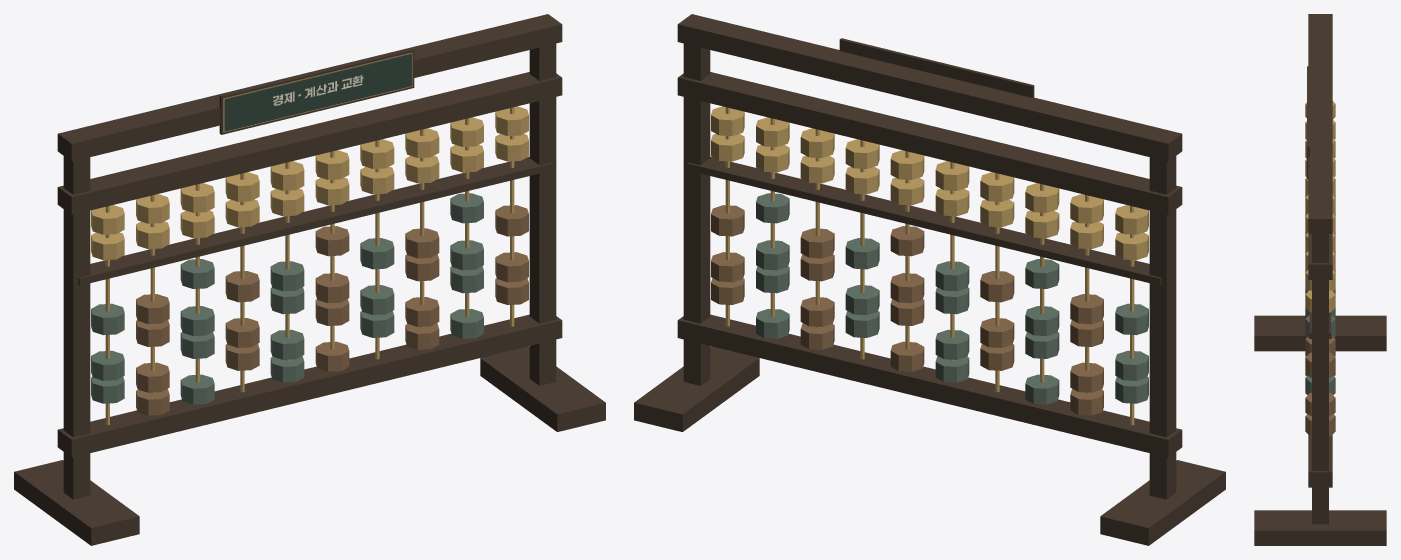
The model's file is 06_Economy_Abacus.fbx.
The picture shows the model from 3 angles, left to right: view 1: azimuth 30°, elevation 25°; view 2: azimuth 150°, elevation 25°; view 3: azimuth 270°, elevation 25°; orthographic projection. The views are drawn at different scales.
Parts seen in each view (by area): view 1: 06_Economy_Abacus__Structure; view 2: 06_Economy_Abacus__Structure; view 3: 06_Economy_Abacus__Structure.
Boxes of the visible parts, x1,y1,x2,y2 form: 06_Economy_Abacus__Structure: (14,14,605,545); 06_Economy_Abacus__Structure: (634,14,1225,545); 06_Economy_Abacus__Structure: (1254,14,1386,545).
Bounding box in the file's own units: 424 × 305 × 110.
Materials: 1 (1 with a texture image).
